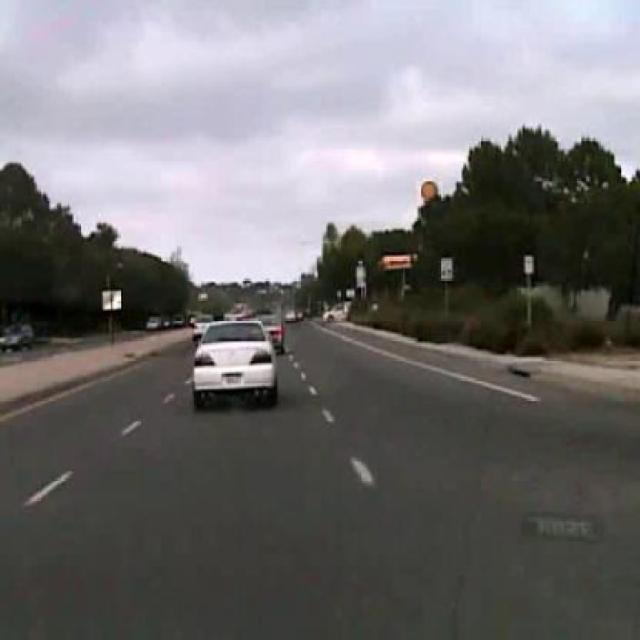speedLimit45: (440, 256, 454, 280)
